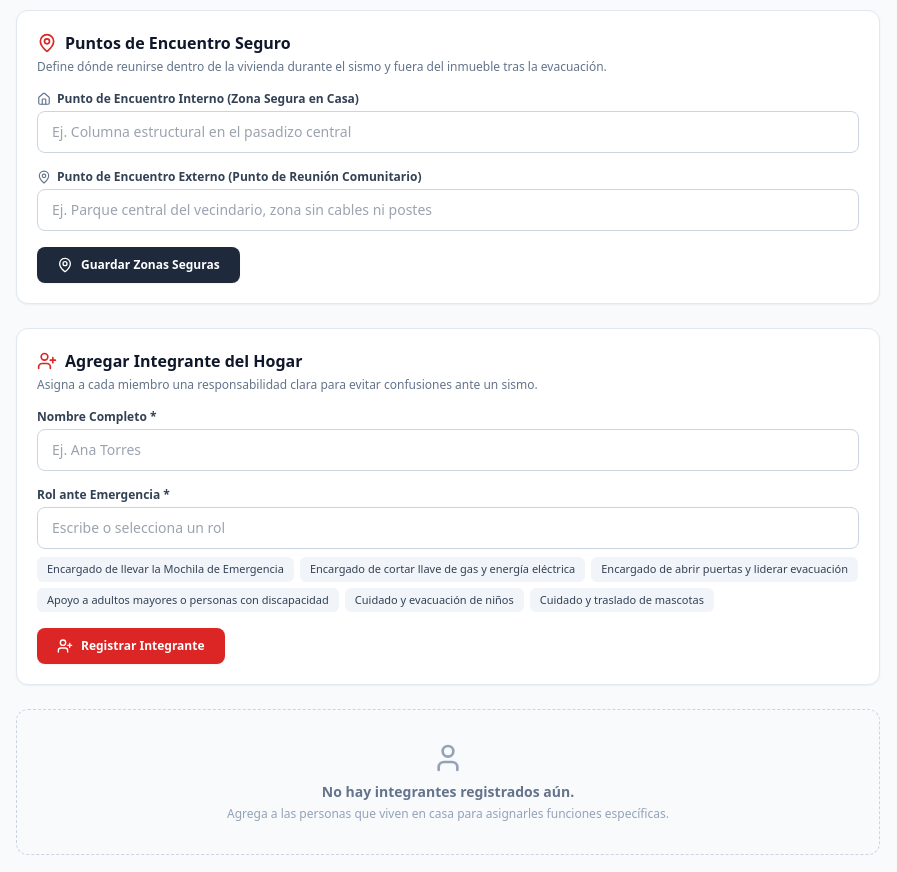
PlanFamiliarView Component › debe registrar un familiar y asignarle su rol ante sismos
This screenshot has width=897, height=872.
(page scrolled)
In the field with test id "input-nombre-familiar": (448, 450) [37,429,859,471], type "Carlos Mendoza"
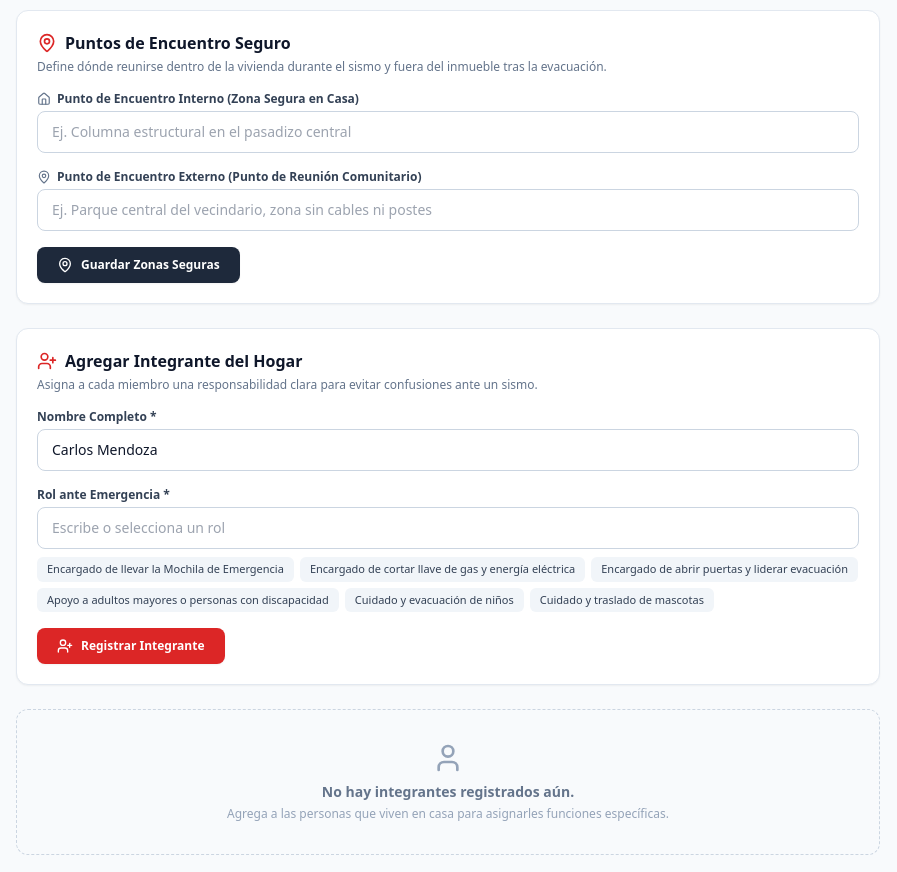
In the field with test id "input-rol-familiar": (448, 528) [37,507,859,549], type "Llevar la mochila de emergencia"
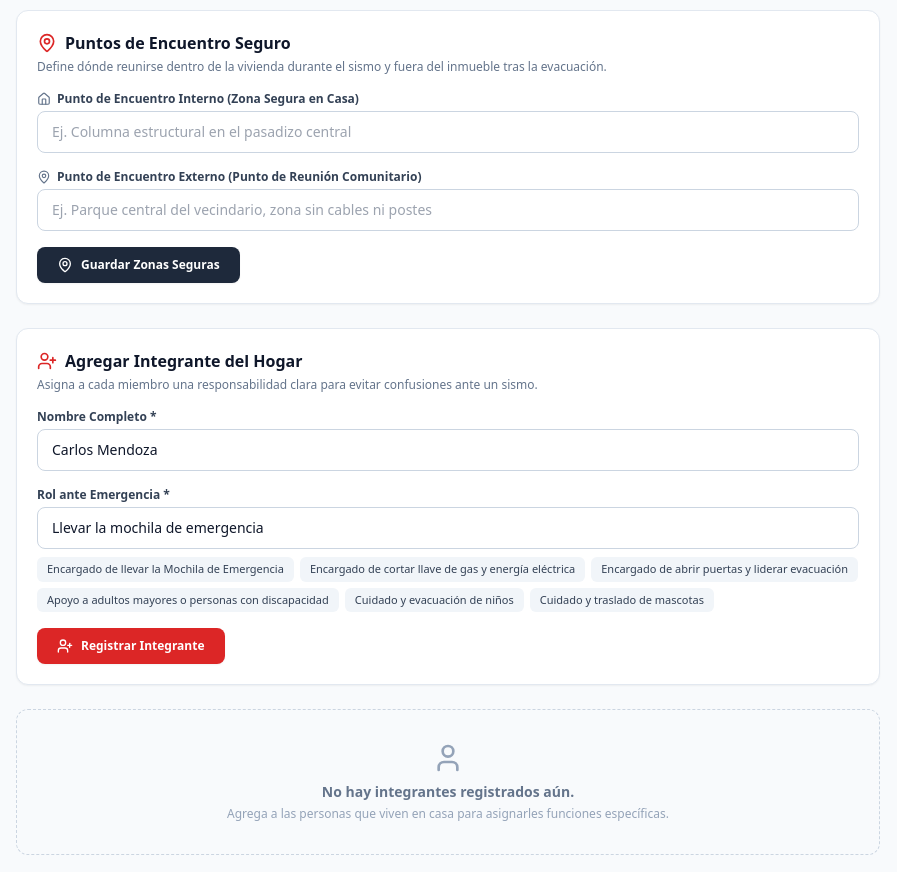
Click the button with test id "btn-guardar-familiar": (131, 646) [37,628,225,664]
(page scrolled)
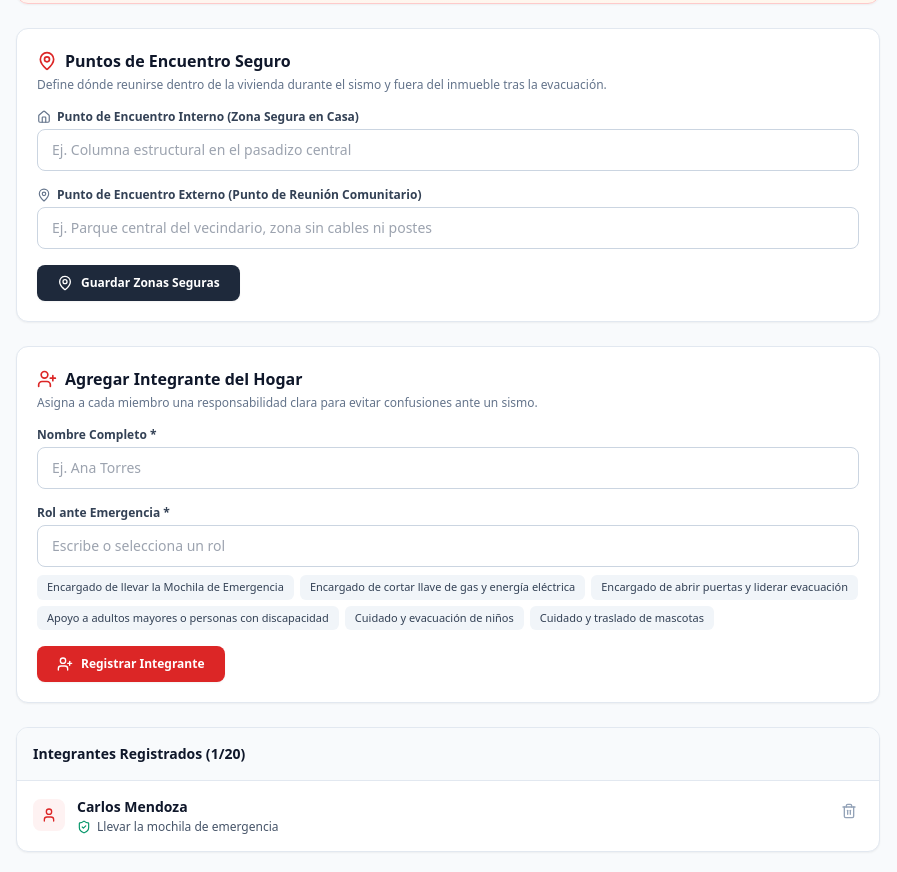
Expected: the heading "Carlos Mendoza" is shown, [77,797,188,816]
Expected: the text "Llevar la mochila de emergencia" is shown, [97,819,278,835]
